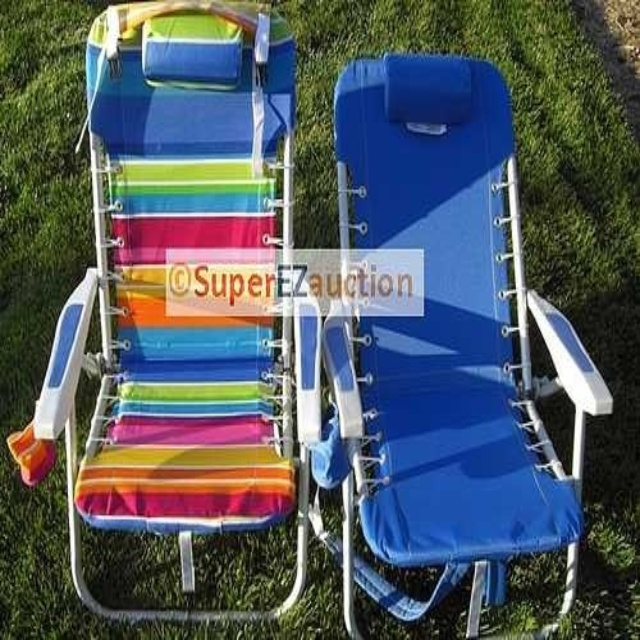obstacle: (324, 54, 611, 634), (65, 2, 296, 615)
